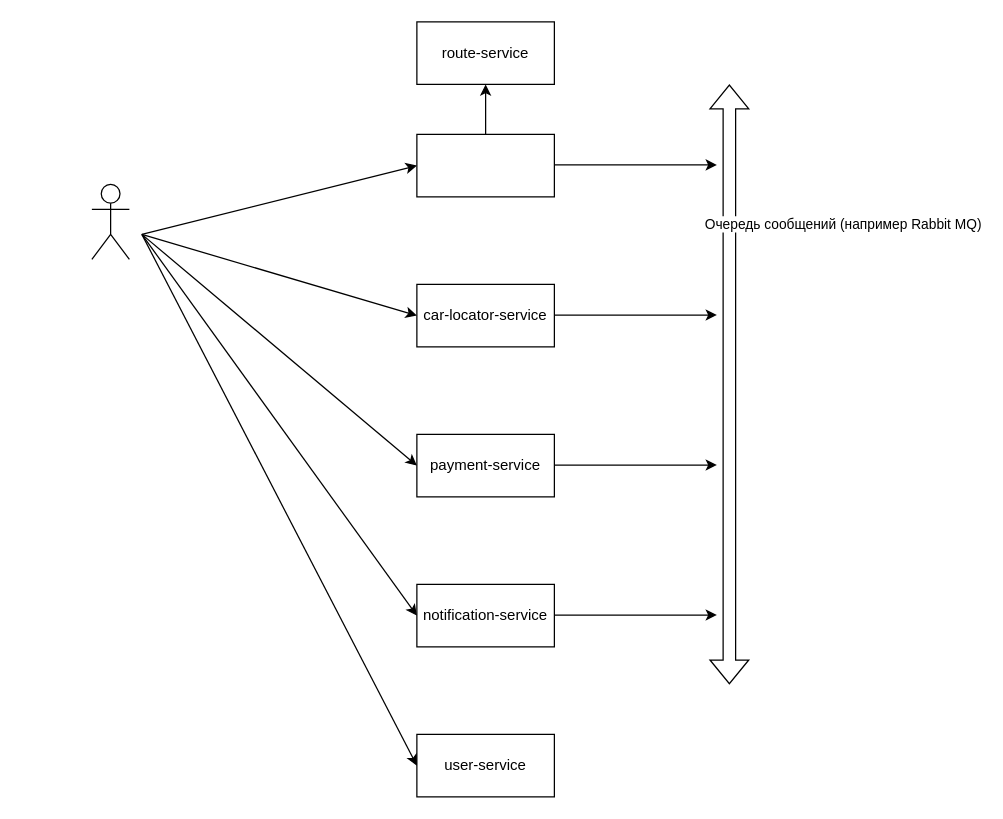
This 1003x819 diagram has some shape labels left out. The shapes that lost their labels are listed below. From the top down, each one's box as (x1, y1, x2, y2) in pixels, then its label:
(416, 133, 554, 197): order-service
(91, 183, 129, 259): Пользователь (Пассажир или Водитель)
